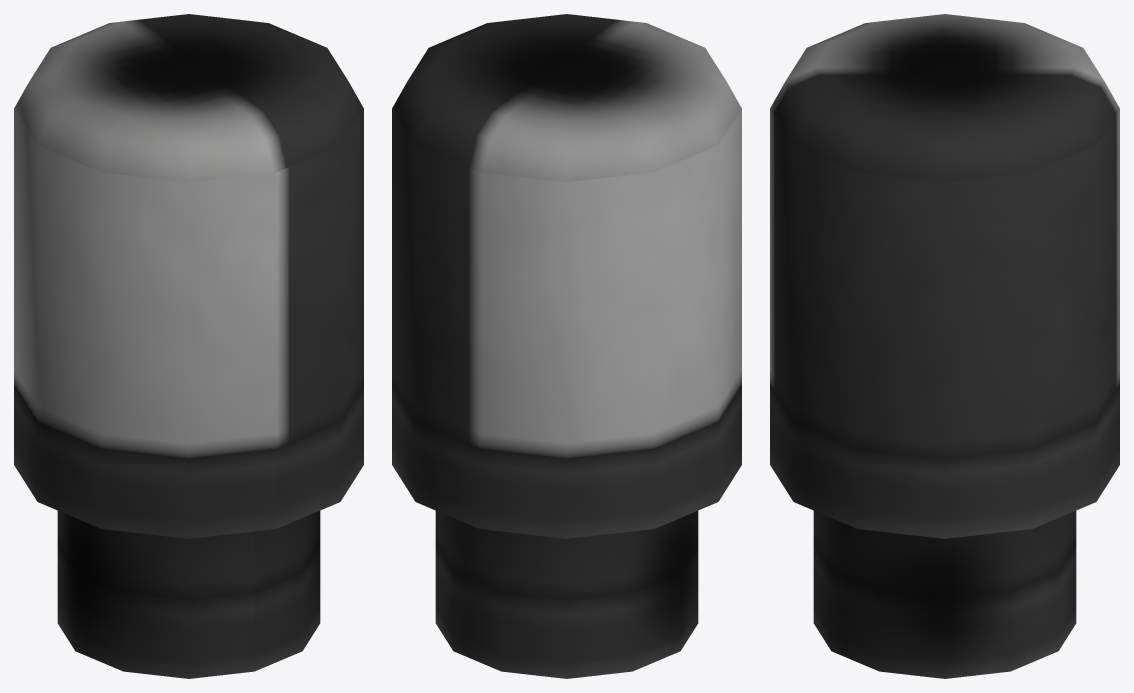
The model's file is hgbody.obj.
3 renders of one model, left to right at view 1: azimuth 30°, elevation 25°; view 2: azimuth 150°, elevation 25°; view 3: azimuth 270°, elevation 25°, orthographic.
Visible parts, largest first — view 1: 1; view 2: 1; view 3: 1.
Boxes of the visible parts, x1=… form: 1: x1=14, y1=14, x2=363, y2=678; 1: x1=392, y1=14, x2=741, y2=678; 1: x1=770, y1=14, x2=1119, y2=678.
Bounding box in the file's own units: 0.1 × 0.175 × 0.1.
Materials: 1 (1 with a texture image).
